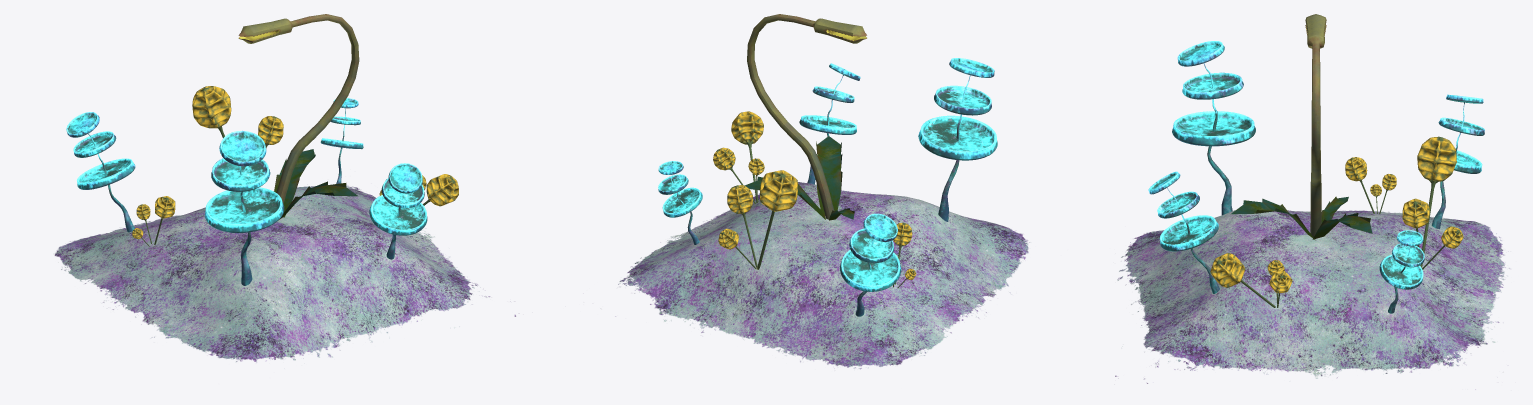
3 views of the same model, side by side, from view 1: azimuth 30°, elevation 25°; view 2: azimuth 150°, elevation 25°; view 3: azimuth 270°, elevation 25° (orthographic). The views are drawn at different scales.
Visible parts, largest first — view 1: Ground, LilyPadTree5, Leaf6, LilyPadTree6, LilyPadTree8, Flower4, Flower7, LilyPadTree7, Flower6; view 2: Ground, LilyPadTree5, Leaf6, LilyPadTree8, Flower4, LilyPadTree7, Flower7, LilyPadTree6, Flower6; view 3: Ground, LilyPadTree5, Leaf6, LilyPadTree6, Flower4, LilyPadTree7, Flower7, LilyPadTree8, Flower6.
Part boxes in pixels (x1,y1,x2,y2): Ground: (54, 185, 515, 362); LilyPadTree5: (204, 130, 284, 285); Leaf6: (238, 14, 359, 219); LilyPadTree6: (369, 163, 427, 259); LilyPadTree8: (66, 112, 135, 232); Flower4: (192, 86, 283, 148); Flower7: (379, 174, 458, 206); LilyPadTree7: (320, 98, 363, 183); Flower6: (132, 196, 175, 246); Ground: (615, 182, 1030, 369); LilyPadTree5: (918, 58, 997, 221); Leaf6: (744, 14, 866, 220); LilyPadTree8: (840, 213, 901, 316); Flower4: (718, 170, 797, 269); LilyPadTree7: (658, 161, 702, 244); Flower7: (713, 111, 764, 203); LilyPadTree6: (799, 63, 860, 184); Flower6: (893, 222, 916, 288); Ground: (1115, 210, 1510, 389); LilyPadTree5: (1172, 41, 1255, 215); Leaf6: (1230, 14, 1372, 240); LilyPadTree6: (1148, 171, 1219, 293); Flower4: (1402, 136, 1463, 269); LilyPadTree7: (1379, 230, 1424, 313); Flower7: (1210, 253, 1292, 307); LilyPadTree8: (1431, 94, 1484, 229); Flower6: (1345, 157, 1396, 214).
Bounding box in the file's own units: 1.47 × 1.09 × 1.47.
4 materials, 4 textured.
